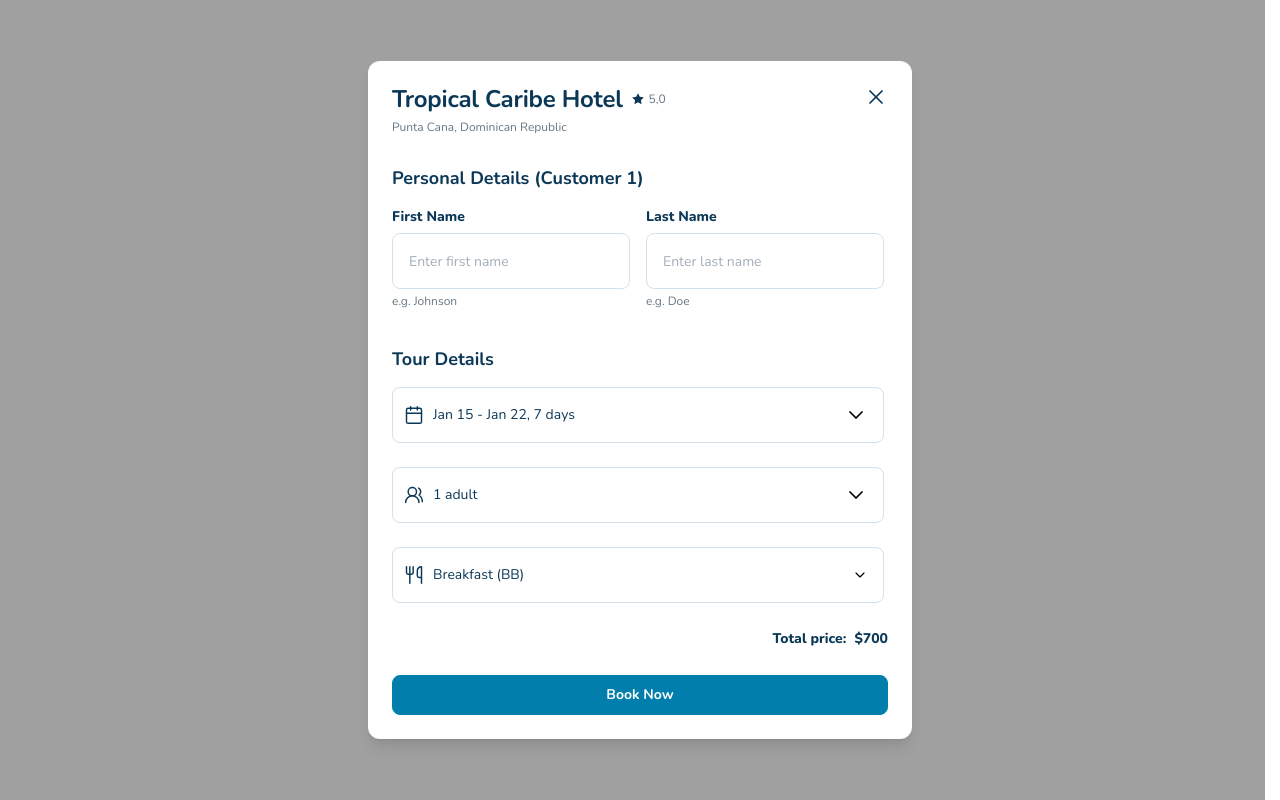
BookingModal Component (TDD Specs) › prevents submission and displays inline error messages when required personal details fields are empty
Step 1. Click the button "Book Now" → [640, 695], box x1=392 y1=675 x2=888 y2=715
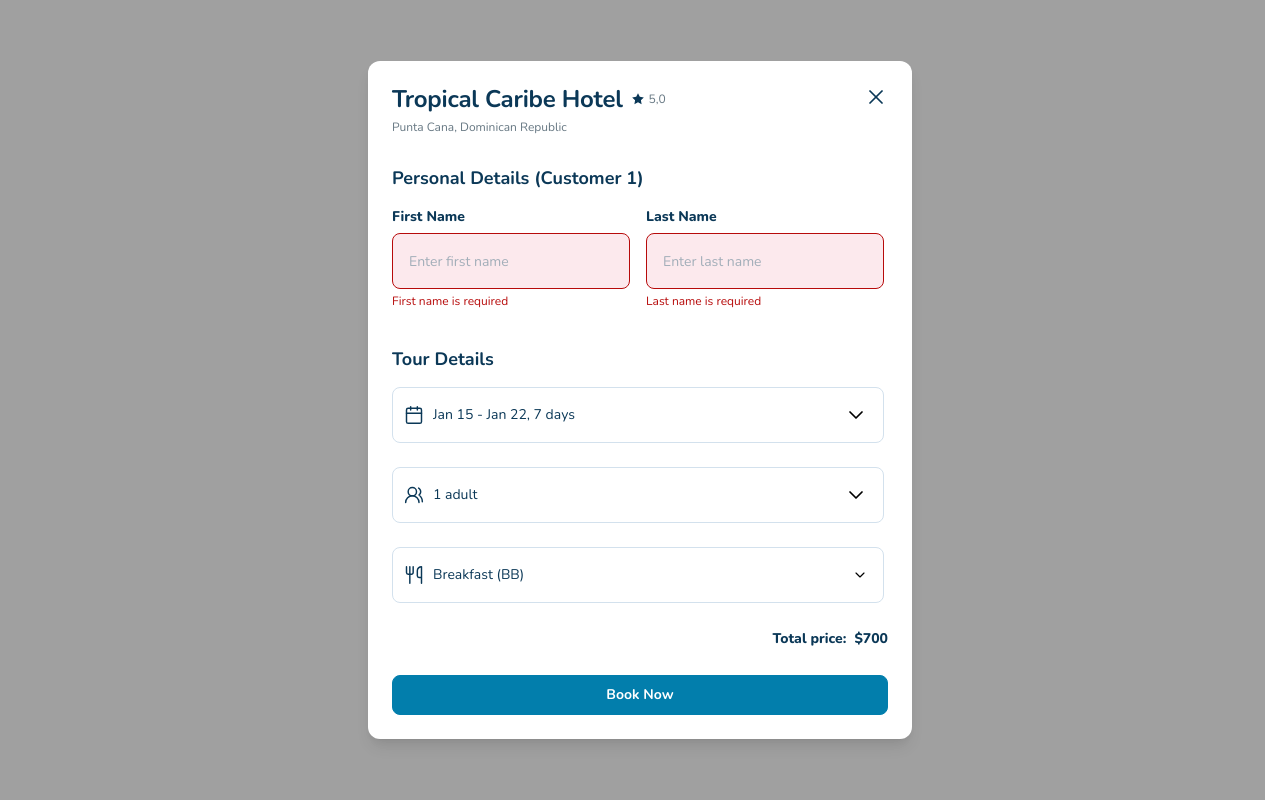
expect the text "First name is required" is shown: met, box x1=392 y1=293 x2=508 y2=309
expect the text "Last name is required" is shown: met, box x1=646 y1=293 x2=761 y2=309
